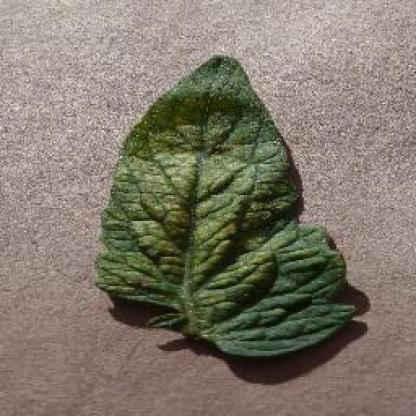Tomato_Spider_Mites: (96, 56, 354, 354)
